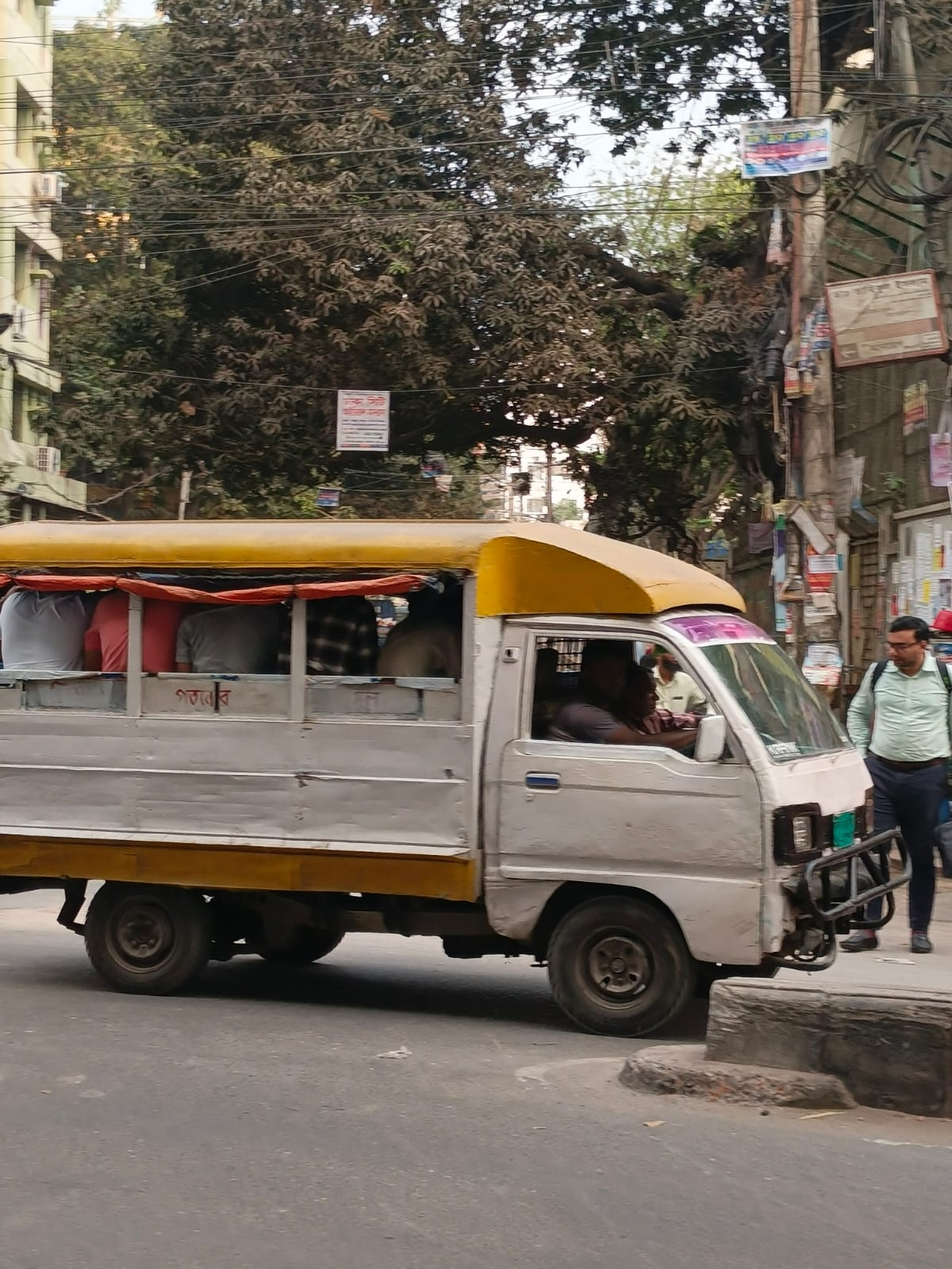Leguna: (8, 485, 889, 1031)
